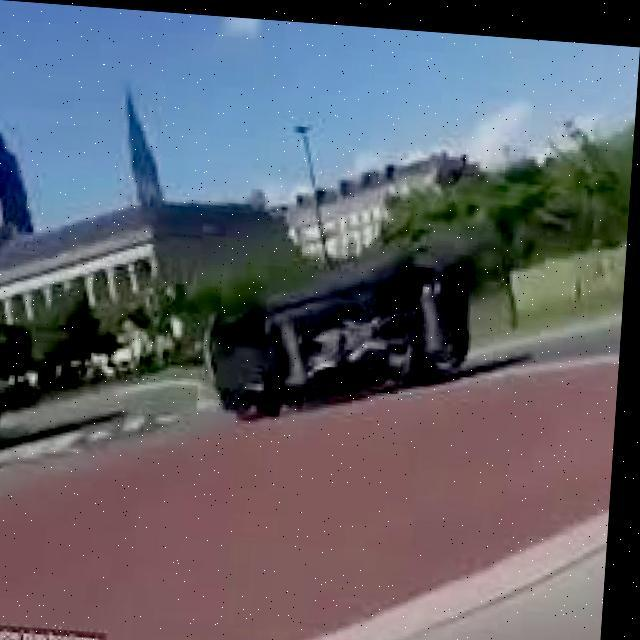single accident: (173, 193, 478, 420)
